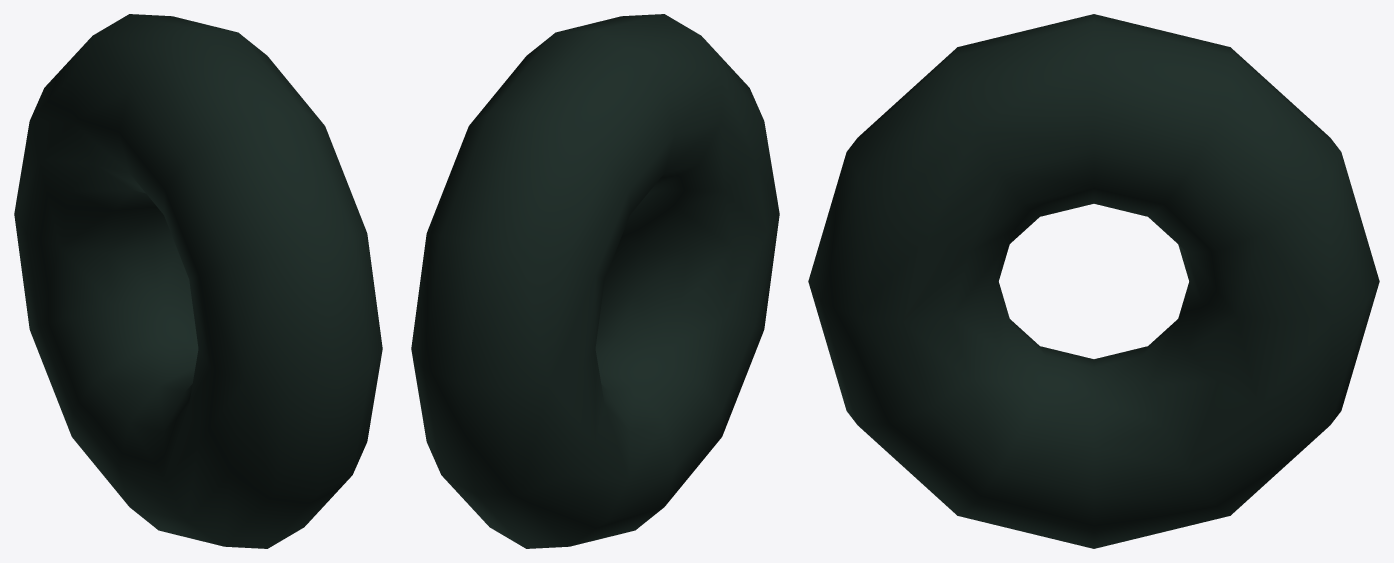
Rendered from rockWheel.dae.
3 renders of one model, left to right at view 1: azimuth 30°, elevation 25°; view 2: azimuth 150°, elevation 25°; view 3: azimuth 270°, elevation 25°, orthographic. The views are drawn at different scales.
Visible parts, largest first — view 1: polySurface4; view 2: polySurface4; view 3: polySurface4.
Boxes of the visible parts, bbox=[...] form: polySurface4: bbox=[14, 14, 382, 548]; polySurface4: bbox=[411, 14, 779, 548]; polySurface4: bbox=[808, 14, 1379, 548].
Bounding box in the file's own units: 0.2 × 0.6 × 0.6.
